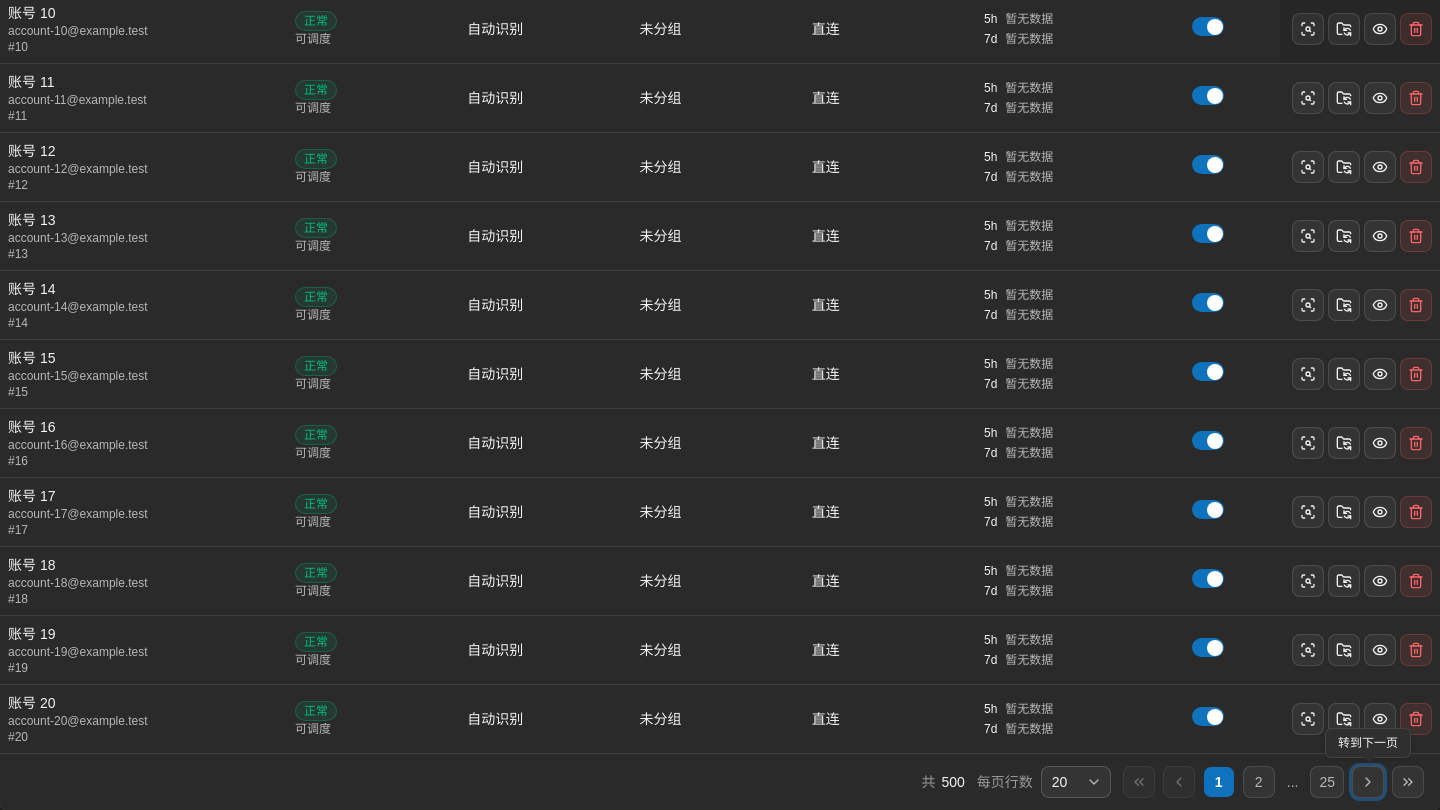
Test: 500 个账号每页只挂载 20 行，键盘翻页后可读取对应账号配置
This screenshot has width=1440, height=810.
(page scrolled)
Expected: the text "account-21@example.test" is not shown
Press Enter
(page scrolled)
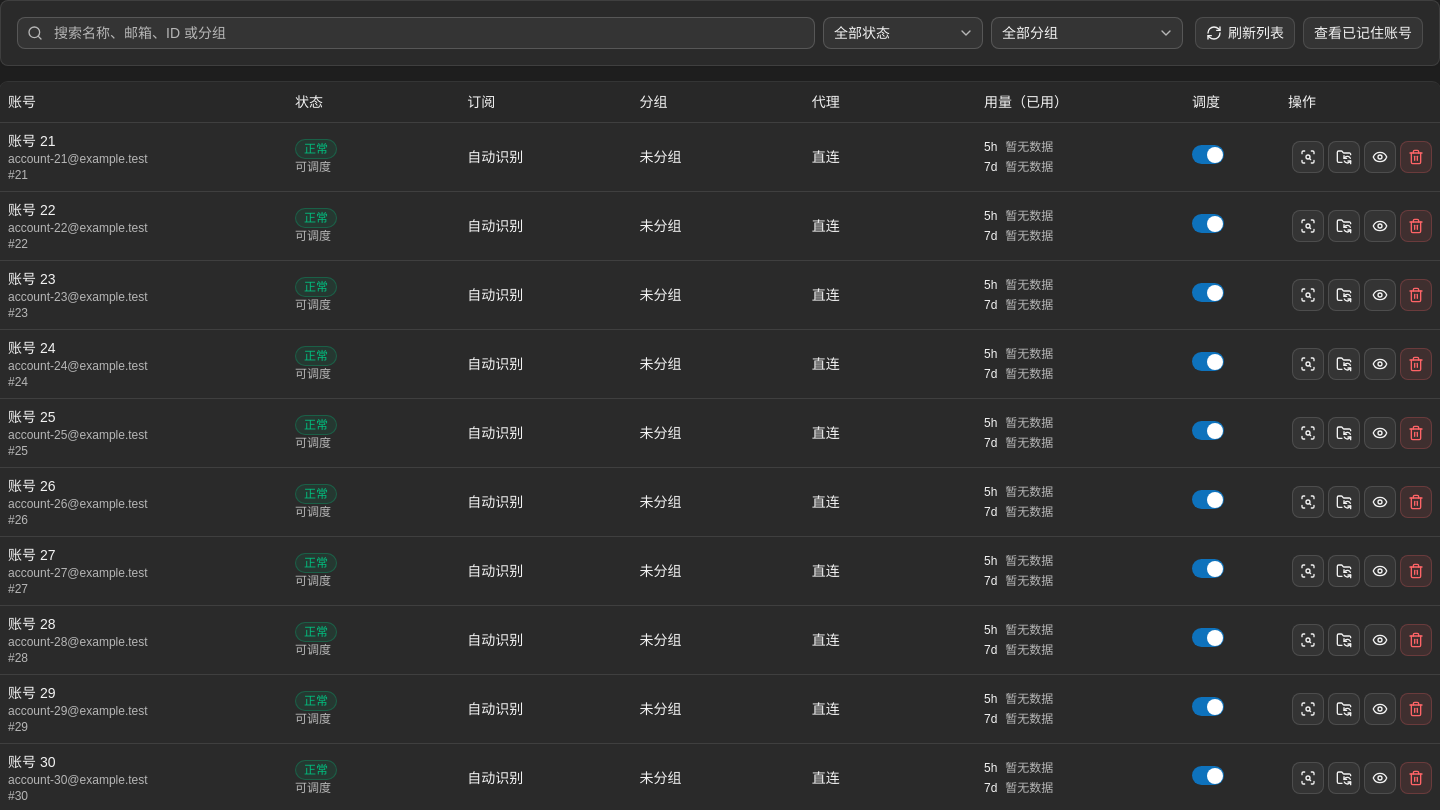
Click the button named "查看 账号 21 配置": (1380, 156) [1364,140,1396,172]
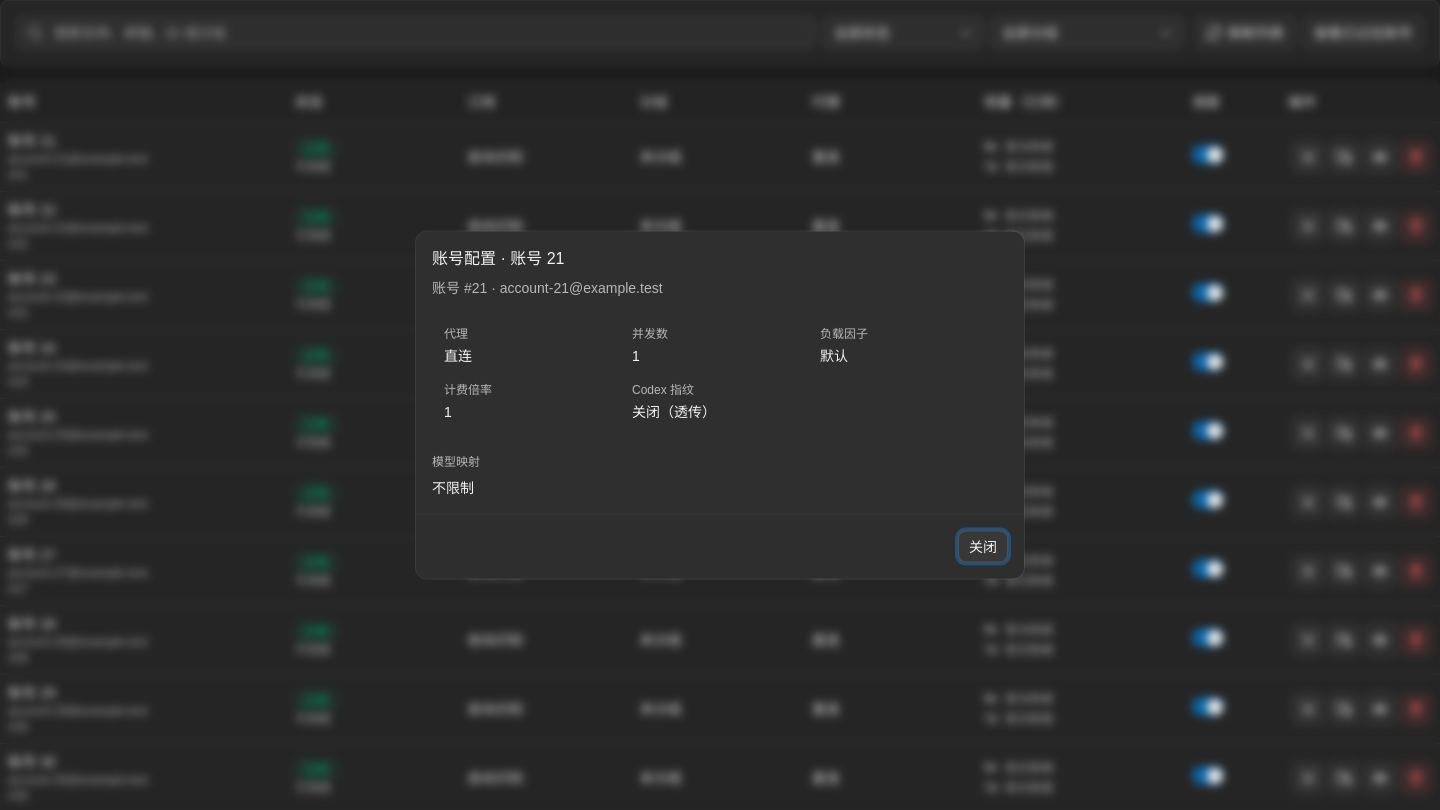
Expected: the text "账号 #21 · account-21@example.test" is shown, [432,280,663,296]
